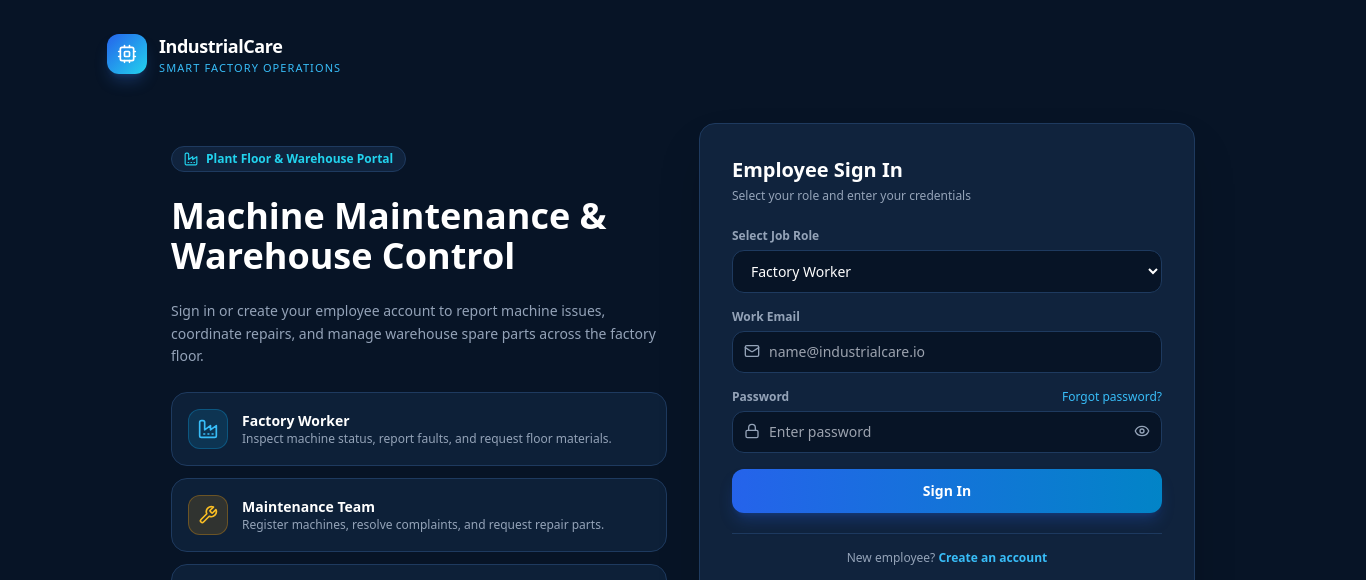
Test: Warehouse Manager dashboard › keeps the two separate inventory sections
Expected: the heading "Employee Sign In" is shown, [732, 156, 903, 182]
Select "Warehouse Manager" in the dropdown at [947, 271], box [732, 250, 1162, 292]
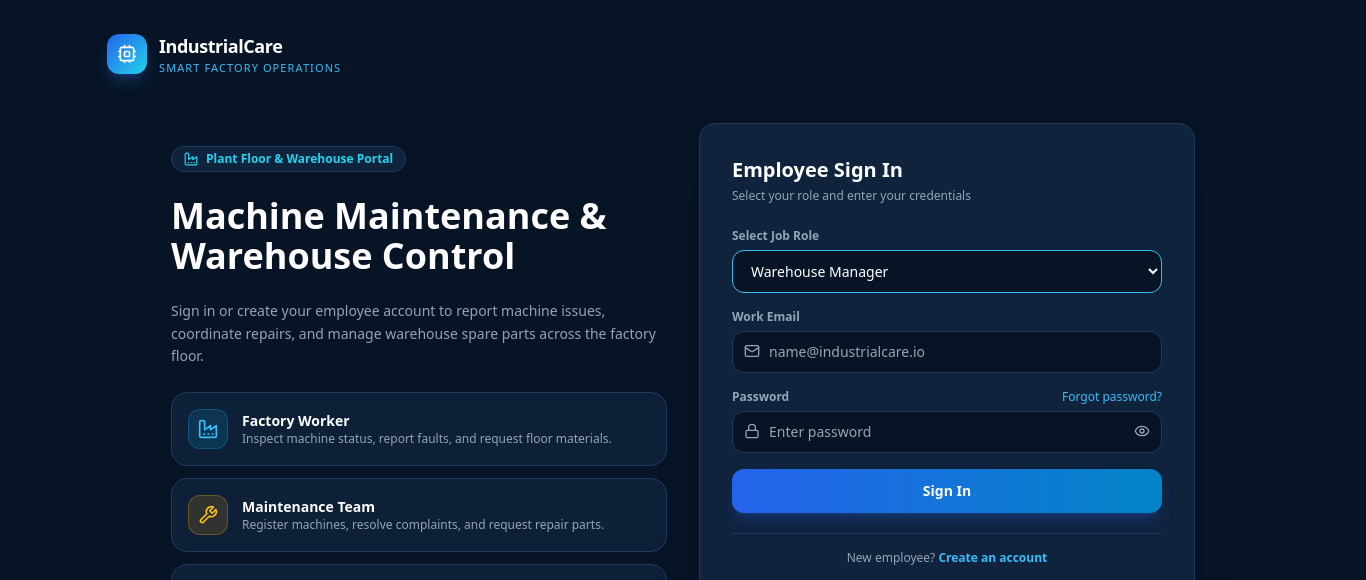
Type "wh@x.io" into the field with placeholder "name@industrialcare.io" at [947, 352], box [732, 330, 1162, 372]
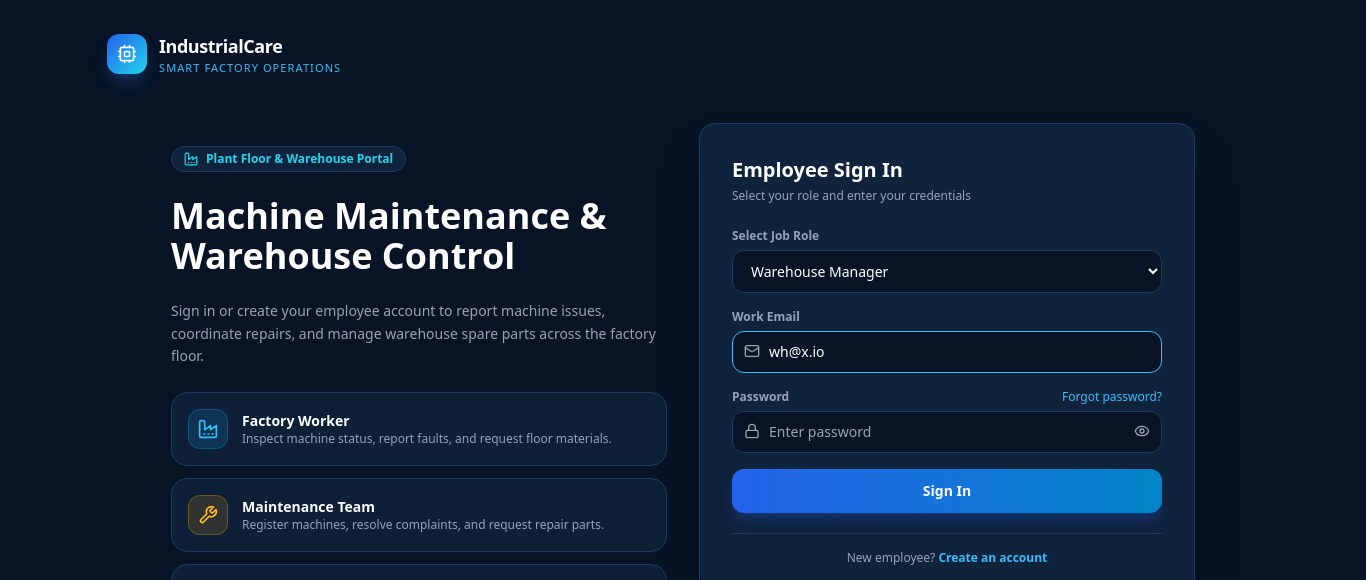
Type "correct-horse" into the password field with placeholder "Enter password" at [947, 432], box [732, 410, 1162, 452]
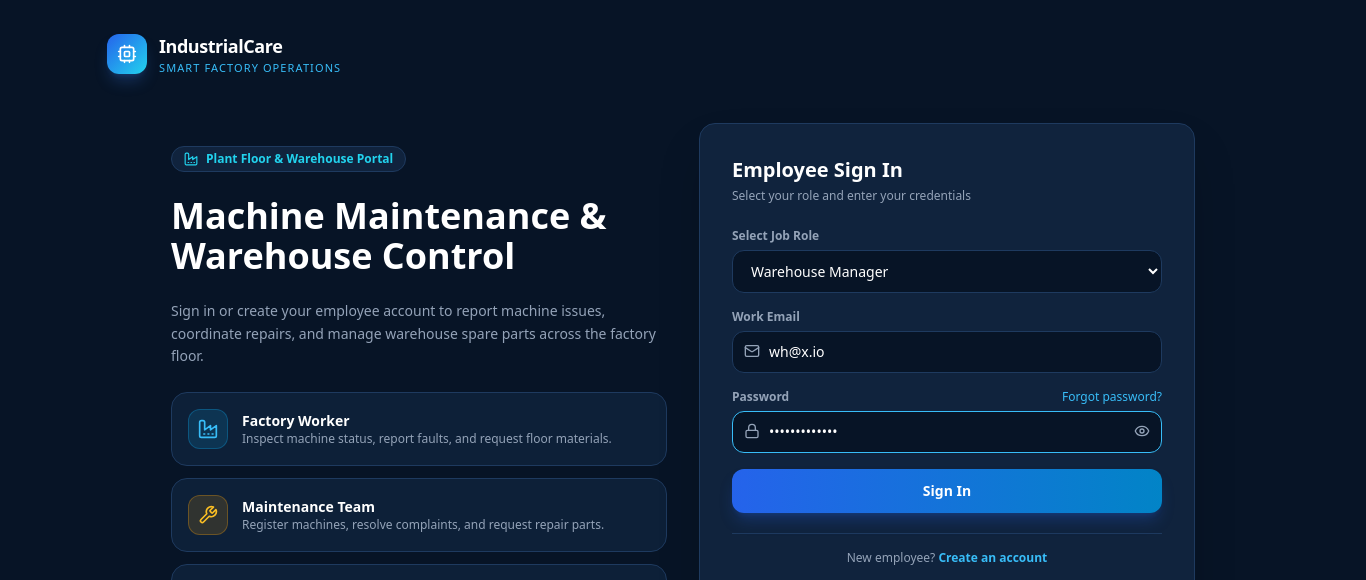
Click the button "Sign In" at [947, 490], box [732, 468, 1162, 512]
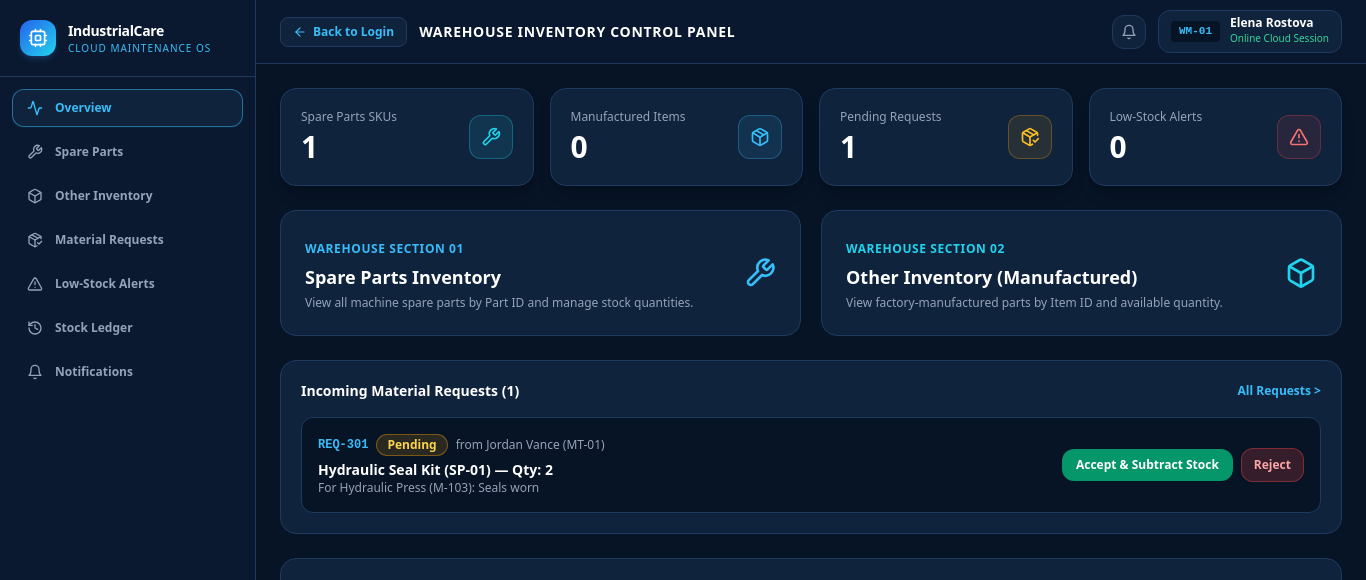
Expected: the heading "Spare Parts Inventory" is shown, [305, 265, 501, 289]
Expected: the heading "Other Inventory (Manufactured)" is shown, [846, 265, 1137, 289]
